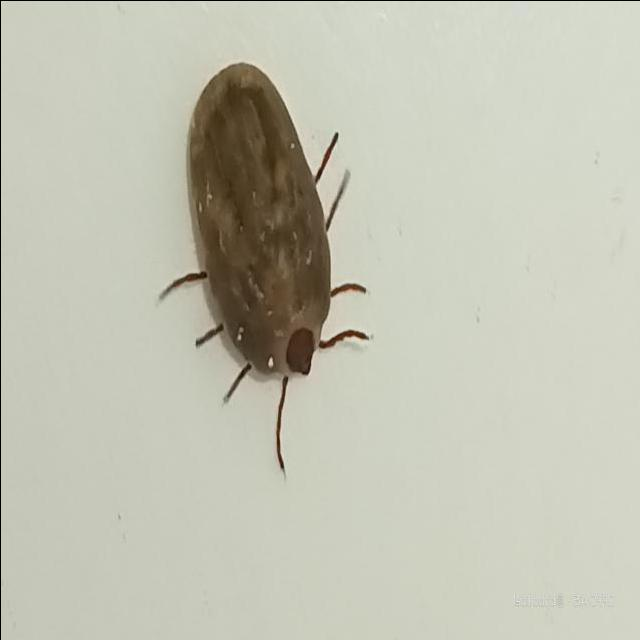Rhipicephalus Sanguineus-F-Fed: (156, 62, 373, 471)
